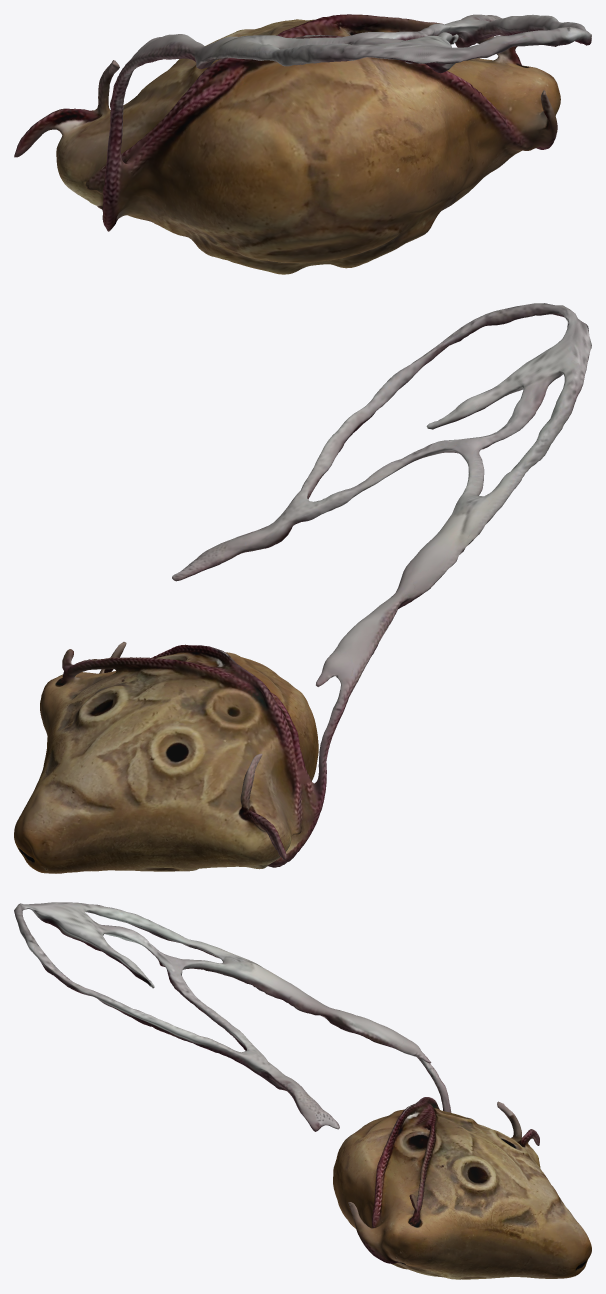
3 views of the same model, one above another, from view 1: azimuth 30°, elevation 25°; view 2: azimuth 150°, elevation 25°; view 3: azimuth 270°, elevation 25° (orthographic). The views are drawn at different scales.
Bounding box in the file's own units: 0.5915 × 0.6144 × 1.03.
1 material, 1 textured.
